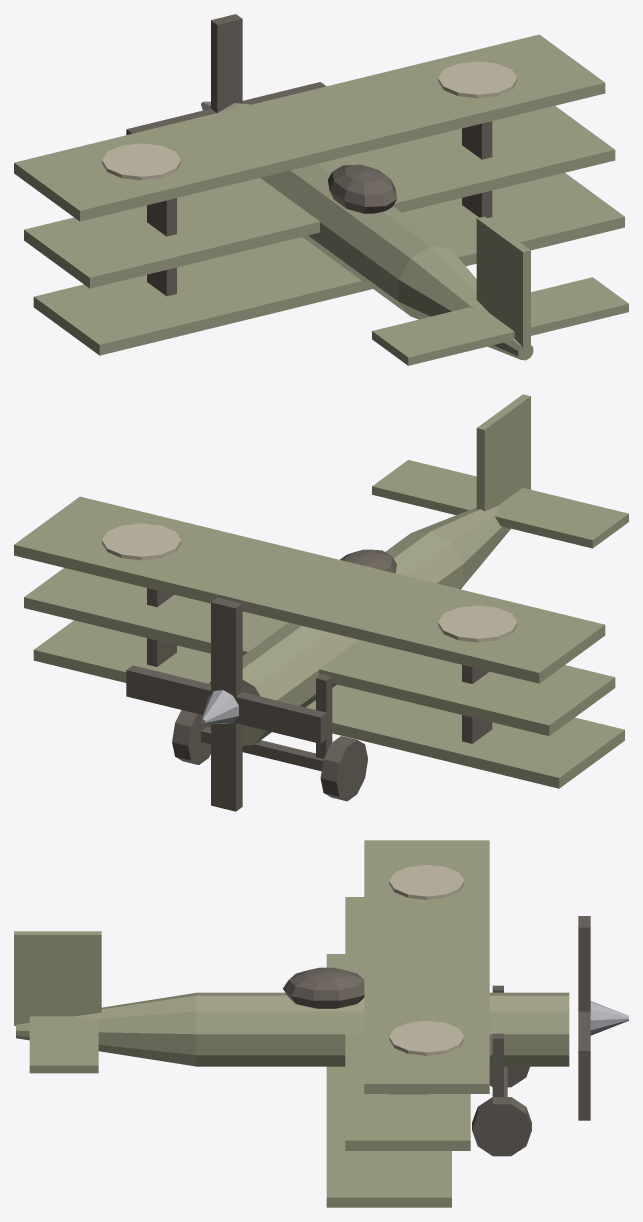
The model's file is enemy-triplane.glb.
3 renders of one model, top to bottom at view 1: azimuth 30°, elevation 25°; view 2: azimuth 150°, elevation 25°; view 3: azimuth 270°, elevation 25°, orthographic. The views are drawn at different scales.
Visible parts, largest first — view 1: enemy-triplane; view 2: enemy-triplane; view 3: enemy-triplane.
Part boxes in pixels (left/top/right/bottom): enemy-triplane: left=14, top=14, right=628, bottom=365; enemy-triplane: left=14, top=394, right=628, bottom=811; enemy-triplane: left=14, top=840, right=628, bottom=1207.
Size of the model in its own units: 4.6 by 1.73 by 4.91.
